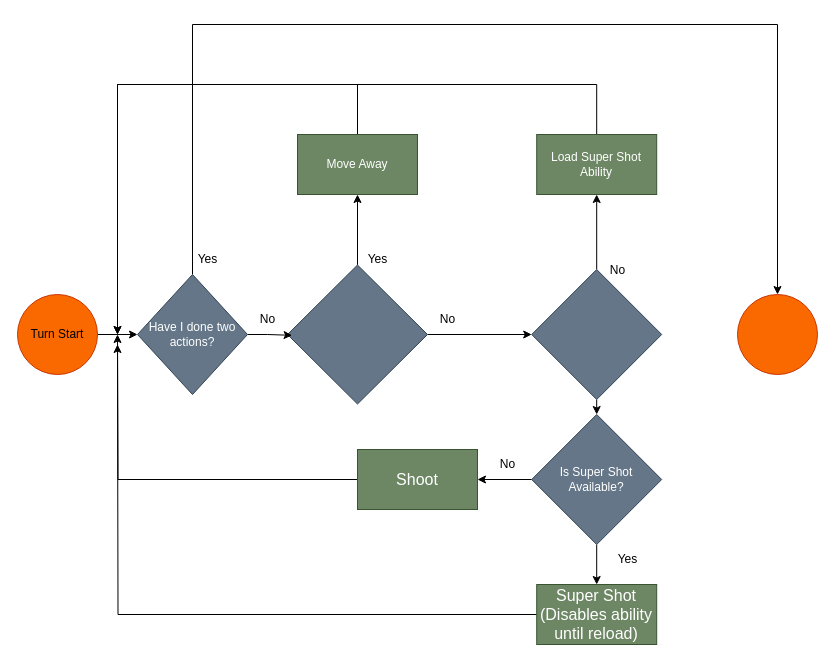
The diagram is 835 pixels wide and 662 high, and some of its shapes have lost their labels. The shapes that lost their labels are listed below. From the top down, each one's box as (x1, y1, x2, y2) in pixels, then its label:
(286, 264, 428, 404): Is the opponent too close?
(531, 268, 662, 400): Is the opponent inside my attack range?
(736, 294, 818, 374): Finish Turn
